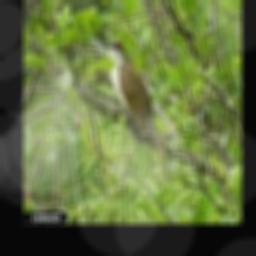Cuckoo: (105, 40, 167, 178)
